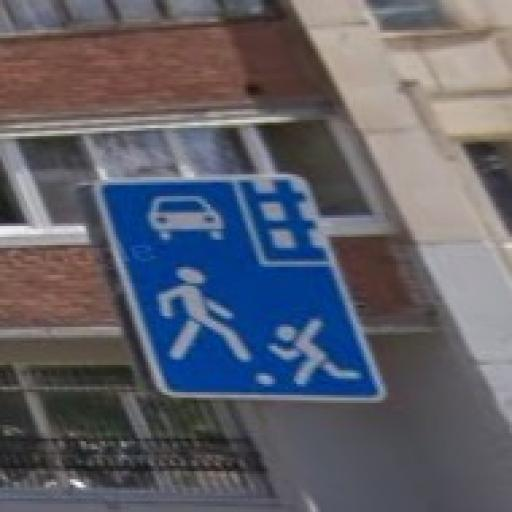traffic_sign: (93, 175, 389, 407)
